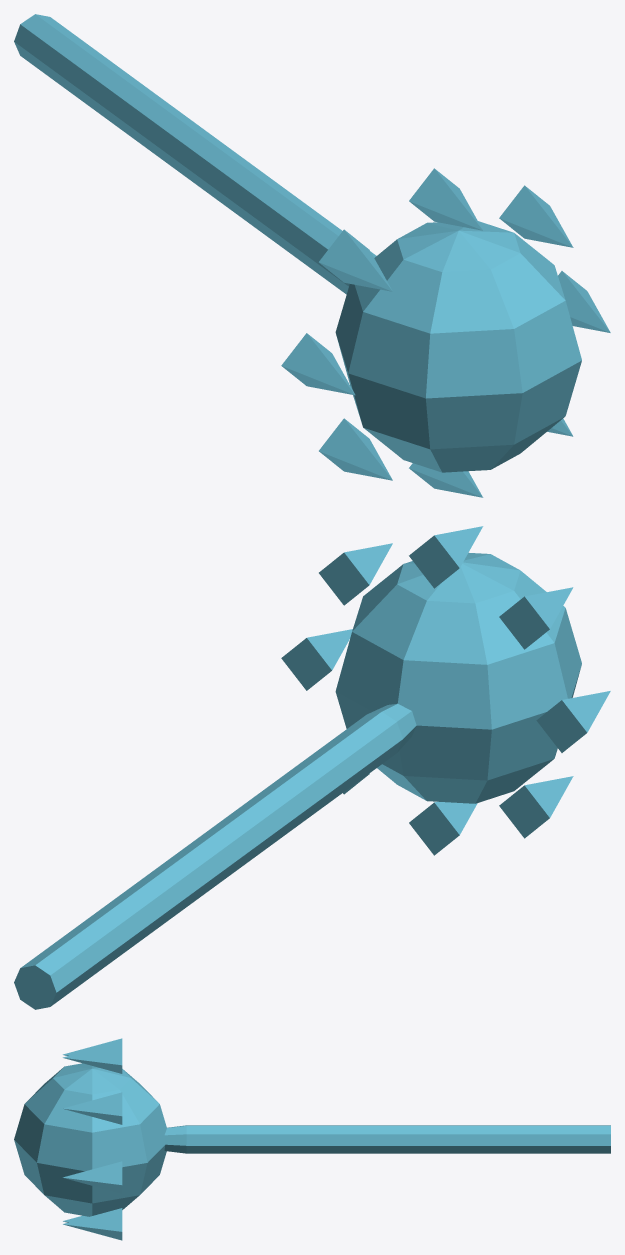
Rendered from blade-mace.glb.
The picture shows the model from 3 angles, top to bottom: view 1: azimuth 30°, elevation 25°; view 2: azimuth 150°, elevation 25°; view 3: azimuth 270°, elevation 25°; orthographic projection. The views are drawn at different scales.
Visible parts, largest first — view 1: m; view 2: m; view 3: m.
Boxes of the visible parts, x1,y1,x2,y2 form: m: (14,14,610,497); m: (14,526,610,1009); m: (14,1038,610,1240).
Bounding box in the file's own units: 0.0675 × 0.0675 × 0.1862.
